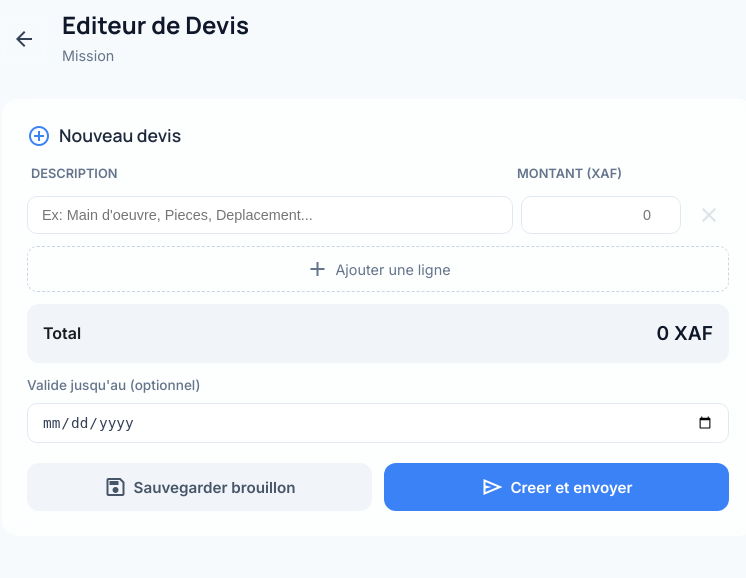
Test case: QuoteEditor › ne permet pas de supprimer l'unique ligne, mais en supprime une parmi plusieurs
expect the button without text below "Montant (XAF)" is disabled: met, box 689,196 -> 729,234
Step 1. Click the button "Ajouter une ligne" → (378, 269), box 27,246 -> 729,292
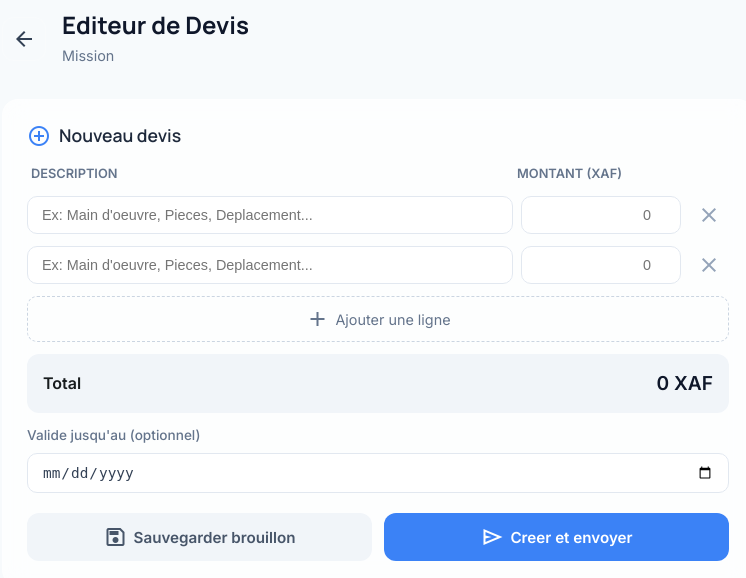
expect the number of fields with placeholder "Ex: Main d'oeuvre, Pieces, Deplacement..." is 2: met, box 27,196 -> 513,234; 27,246 -> 513,284
Step 2. Click the 2nd button → (709, 215), box 689,196 -> 729,234
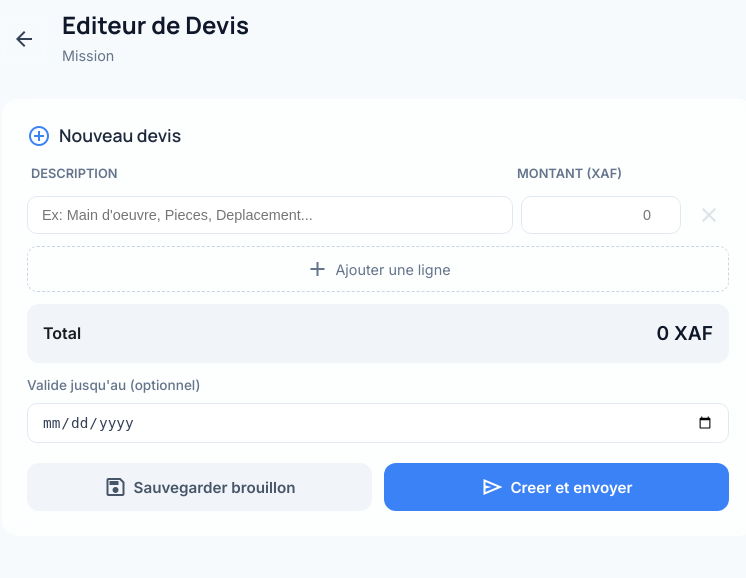
expect the number of fields with placeholder "Ex: Main d'oeuvre, Pieces, Deplacement..." is 1: met, box 27,196 -> 513,234
